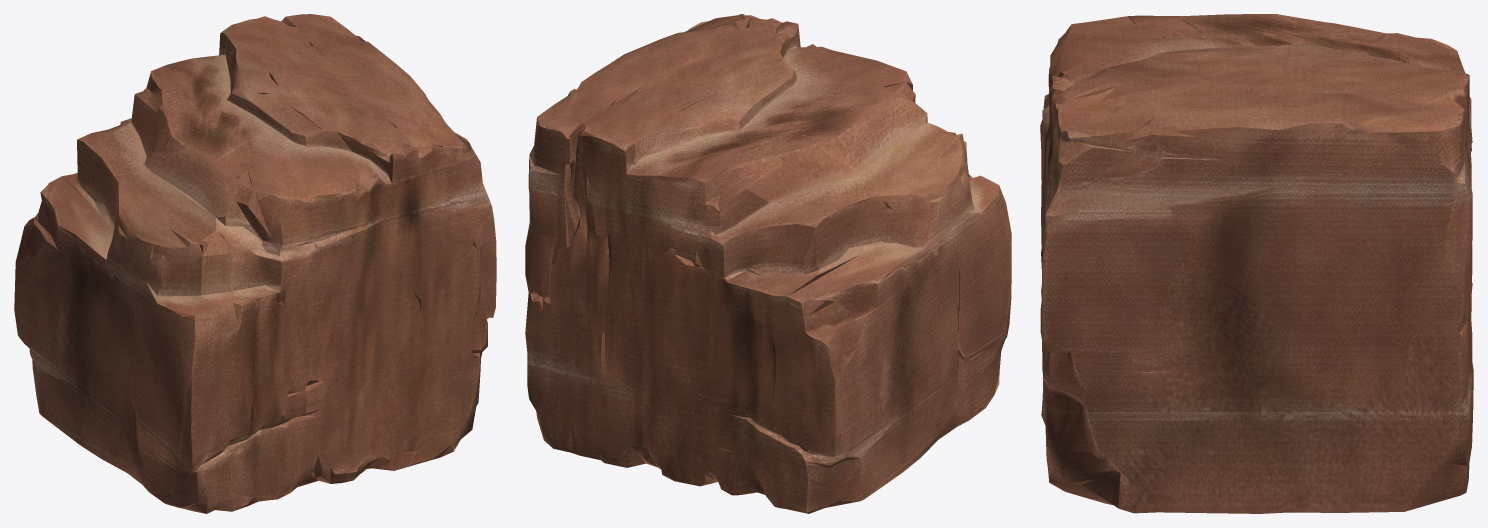
File: boulder_b.glb
3 views of the same model, side by side, from view 1: azimuth 30°, elevation 25°; view 2: azimuth 150°, elevation 25°; view 3: azimuth 270°, elevation 25° (orthographic). The views are drawn at different scales.
Visible parts, largest first — view 1: boulder_b; view 2: boulder_b; view 3: boulder_b.
Boxes of the visible parts, x1=… form: boulder_b: x1=14, y1=14, x2=496, y2=513; boulder_b: x1=525, y1=14, x2=1011, y2=513; boulder_b: x1=1040, y1=14, x2=1473, y2=513.
Size of the model in its own units: 0.9983 by 1 by 0.9986.
1 material, 1 textured.
